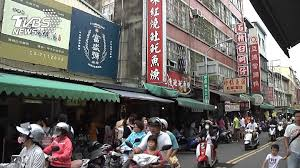people: (143, 118, 177, 168), (8, 124, 45, 168), (45, 122, 73, 168), (200, 121, 217, 168), (287, 111, 300, 168), (263, 145, 281, 168), (128, 122, 143, 145), (143, 138, 160, 156), (246, 119, 258, 144)
